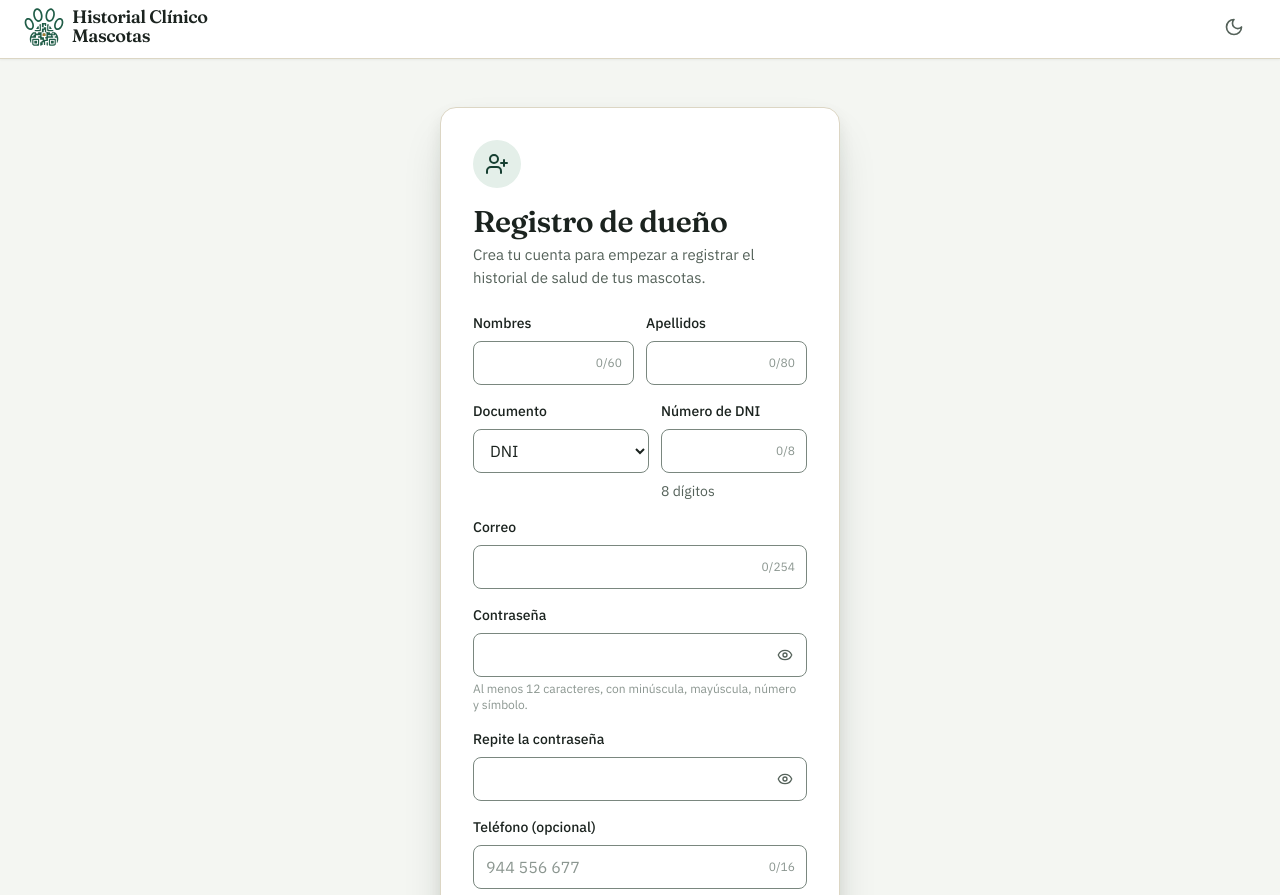
Test case: PaginaRegistro: entradas con lógica real › un DNI de 7 dígitos no se envía y explica por qué
Type "1234567" into the field labelled "Número de DNI" at {"x": 734, "y": 451}, box [661,429,807,473]
(page scrolled)
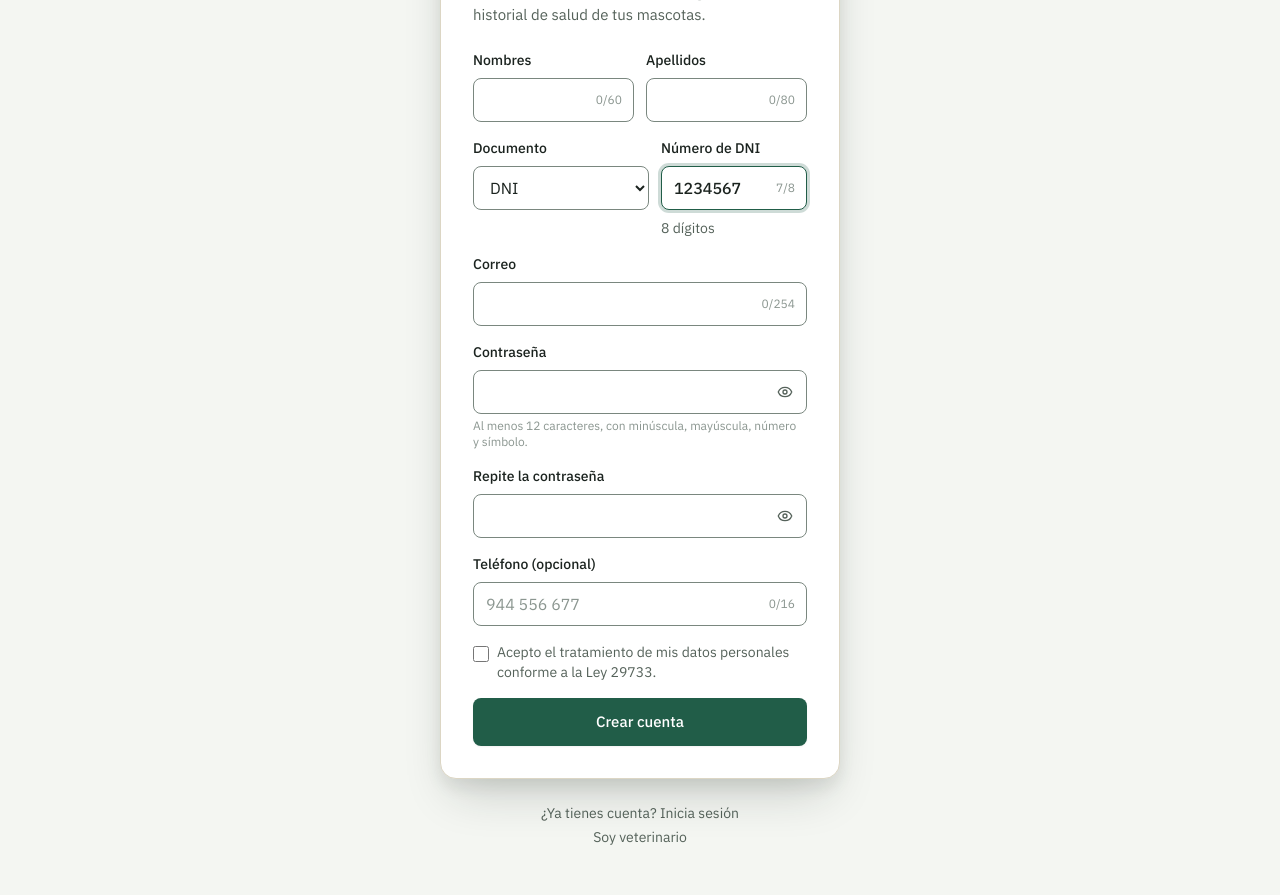
Click the button "Crear cuenta" at {"x": 640, "y": 722}, box [473,698,807,746]
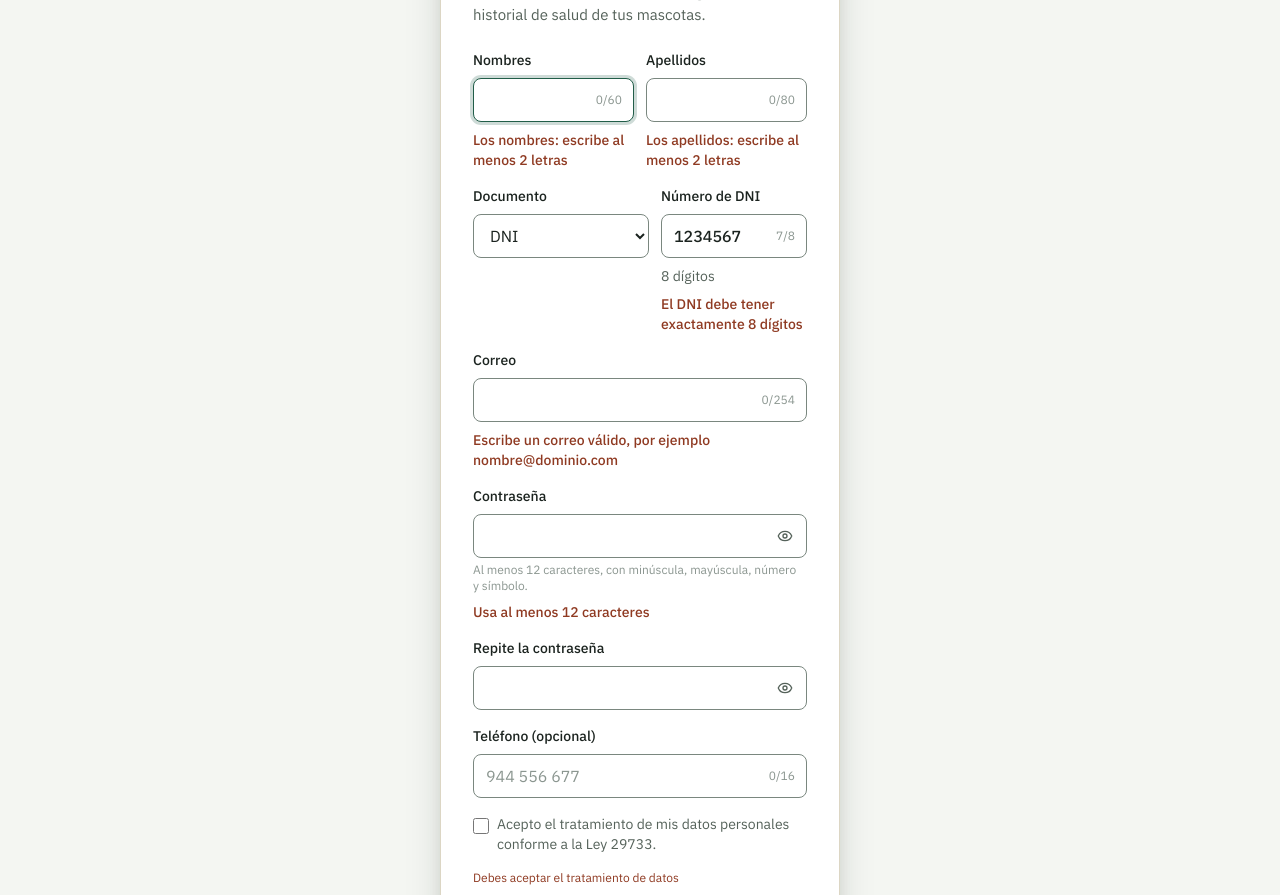
Check: the text "El DNI debe tener exactamente 8 dígitos" is shown, box [661,294,807,334]
